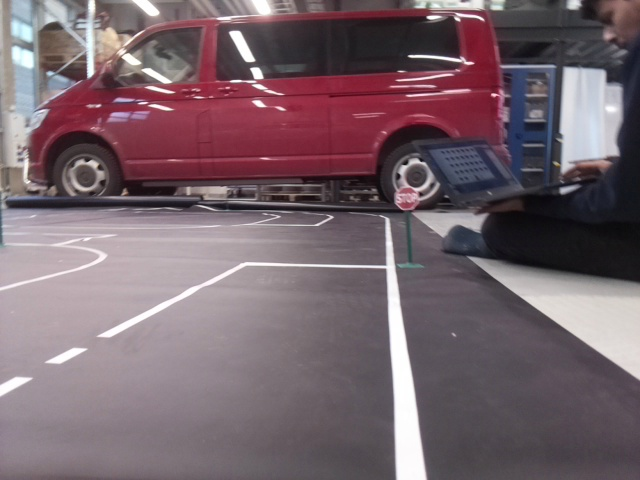Stop: (396, 185, 419, 211)
